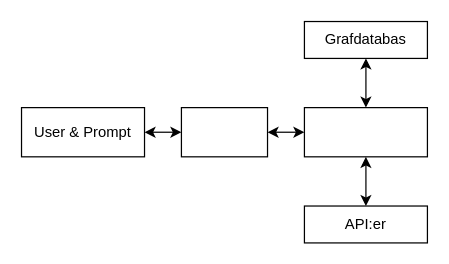
This 449x264 diagram has some shape labels left out. The centre of each missing label's shape, as x and y in pixels:
"LLM" belongs at point 224,131.
"MCP server" belongs at point 365,131.
